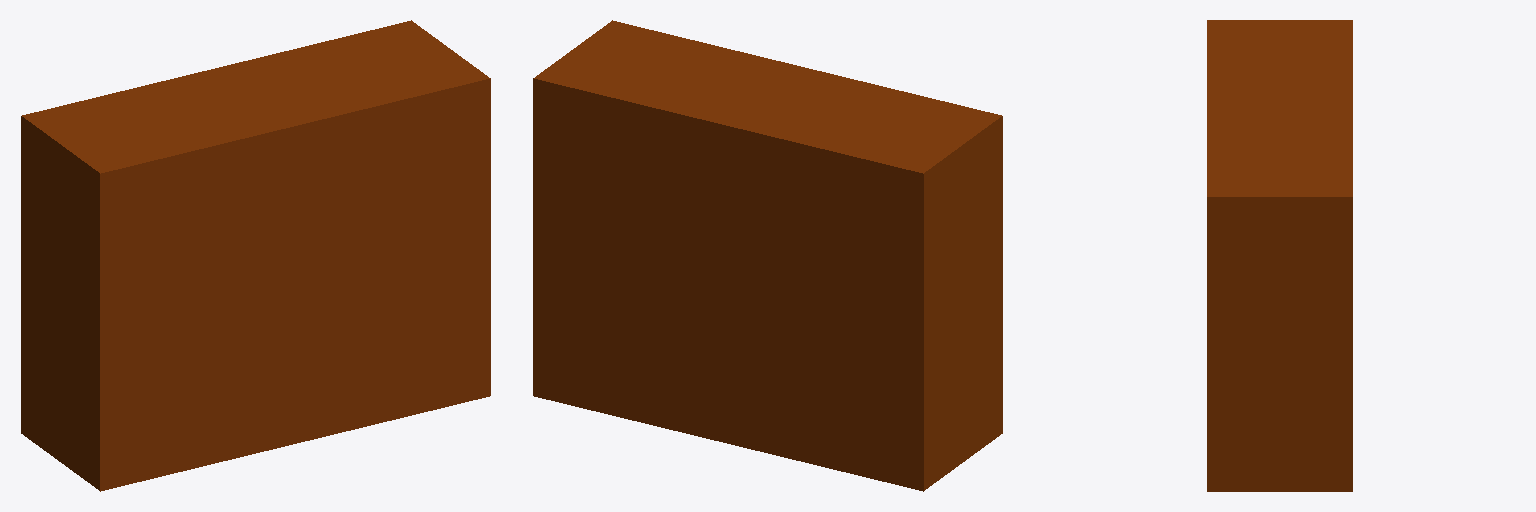
The robot description file, URDF, robot "handle_head":
<?xml version="1.0"?>
<robot name="handle_head">

  <link name="handle_head">
    <!-- Handle -->
    <visual>
      <origin xyz="0 0 0" rpy="0 0 0"/>
      <geometry>
        <box size="0.08343279249304489 0.029318751832100913 0.06493571993470132"/>
      </geometry>
      <material name="brown">
        <color rgba="0.55 0.27 0.07 1.0"/>
      </material>
    </visual>
    <collision>
      <origin xyz="0 0 0" rpy="0 0 0"/>
      <geometry>
        <box size="0.08343279249304489 0.029318751832100913 0.06493571993470132"/>
      </geometry>
    </collision>

    <inertial>
      <origin xyz="0 0 0" rpy="0 0 0"/>
      <mass value="0.07538227993625748"/>
      <inertia ixx="3.188819278860241e-05" iyy="7.02165746878759e-05" izz="4.9128014296347703e-05" ixy="0" ixz="0" iyz="0"/>
    </inertial>
  </link>

</robot>

--- Facts derived from the render (not from the file) ---
The picture shows the robot from 3 angles, left to right: view 1: azimuth 30°, elevation 25°; view 2: azimuth 150°, elevation 25°; view 3: azimuth 270°, elevation 25°; orthographic projection.
Model handle_head with 1 links and 0 joints (none), rooted at handle_head, posed all joints at 0.
Visible links, largest first — view 1: handle_head; view 2: handle_head; view 3: handle_head.
Link boxes in pixels (x1,y1,x2,y2): handle_head: [21, 20, 490, 491]; handle_head: [533, 20, 1002, 491]; handle_head: [1207, 20, 1352, 491].
Bounding box of the posed robot: 0.0834 × 0.0293 × 0.0649 m (x, y, z).
Geometry: primitives only (box / cylinder / sphere), no mesh files.
